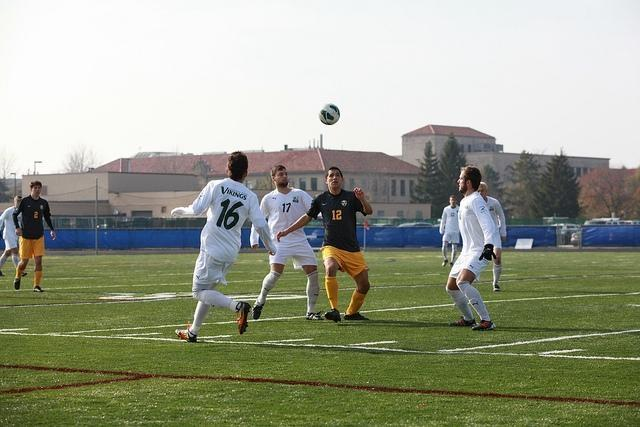car: (552, 224, 578, 234), (584, 218, 620, 225), (397, 221, 434, 226), (606, 220, 634, 225), (570, 232, 578, 246)
